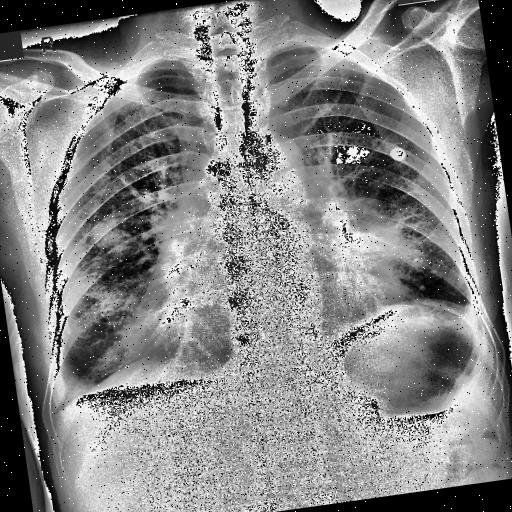0- Aortic enlargement: (234, 125, 307, 186)
10- Pleural effusion: (33, 373, 92, 428), (458, 282, 490, 334), (460, 288, 492, 329), (455, 289, 481, 317)
11- Pleural thickening: (40, 350, 102, 416), (33, 373, 92, 428), (458, 282, 490, 334), (460, 288, 492, 329), (455, 289, 481, 317)
13- Pulmonary fibrosis: (111, 168, 150, 208)
3- Cardiomegaly: (120, 272, 420, 396), (148, 280, 442, 400), (146, 231, 402, 350)
4- Consolidation: (304, 190, 414, 306), (84, 214, 134, 256)
6- Infiltration: (72, 203, 168, 360), (318, 168, 440, 287)
7- Lung Opacity: (74, 234, 179, 378), (72, 203, 168, 360), (318, 168, 440, 287), (82, 212, 142, 261), (40, 370, 74, 415)
